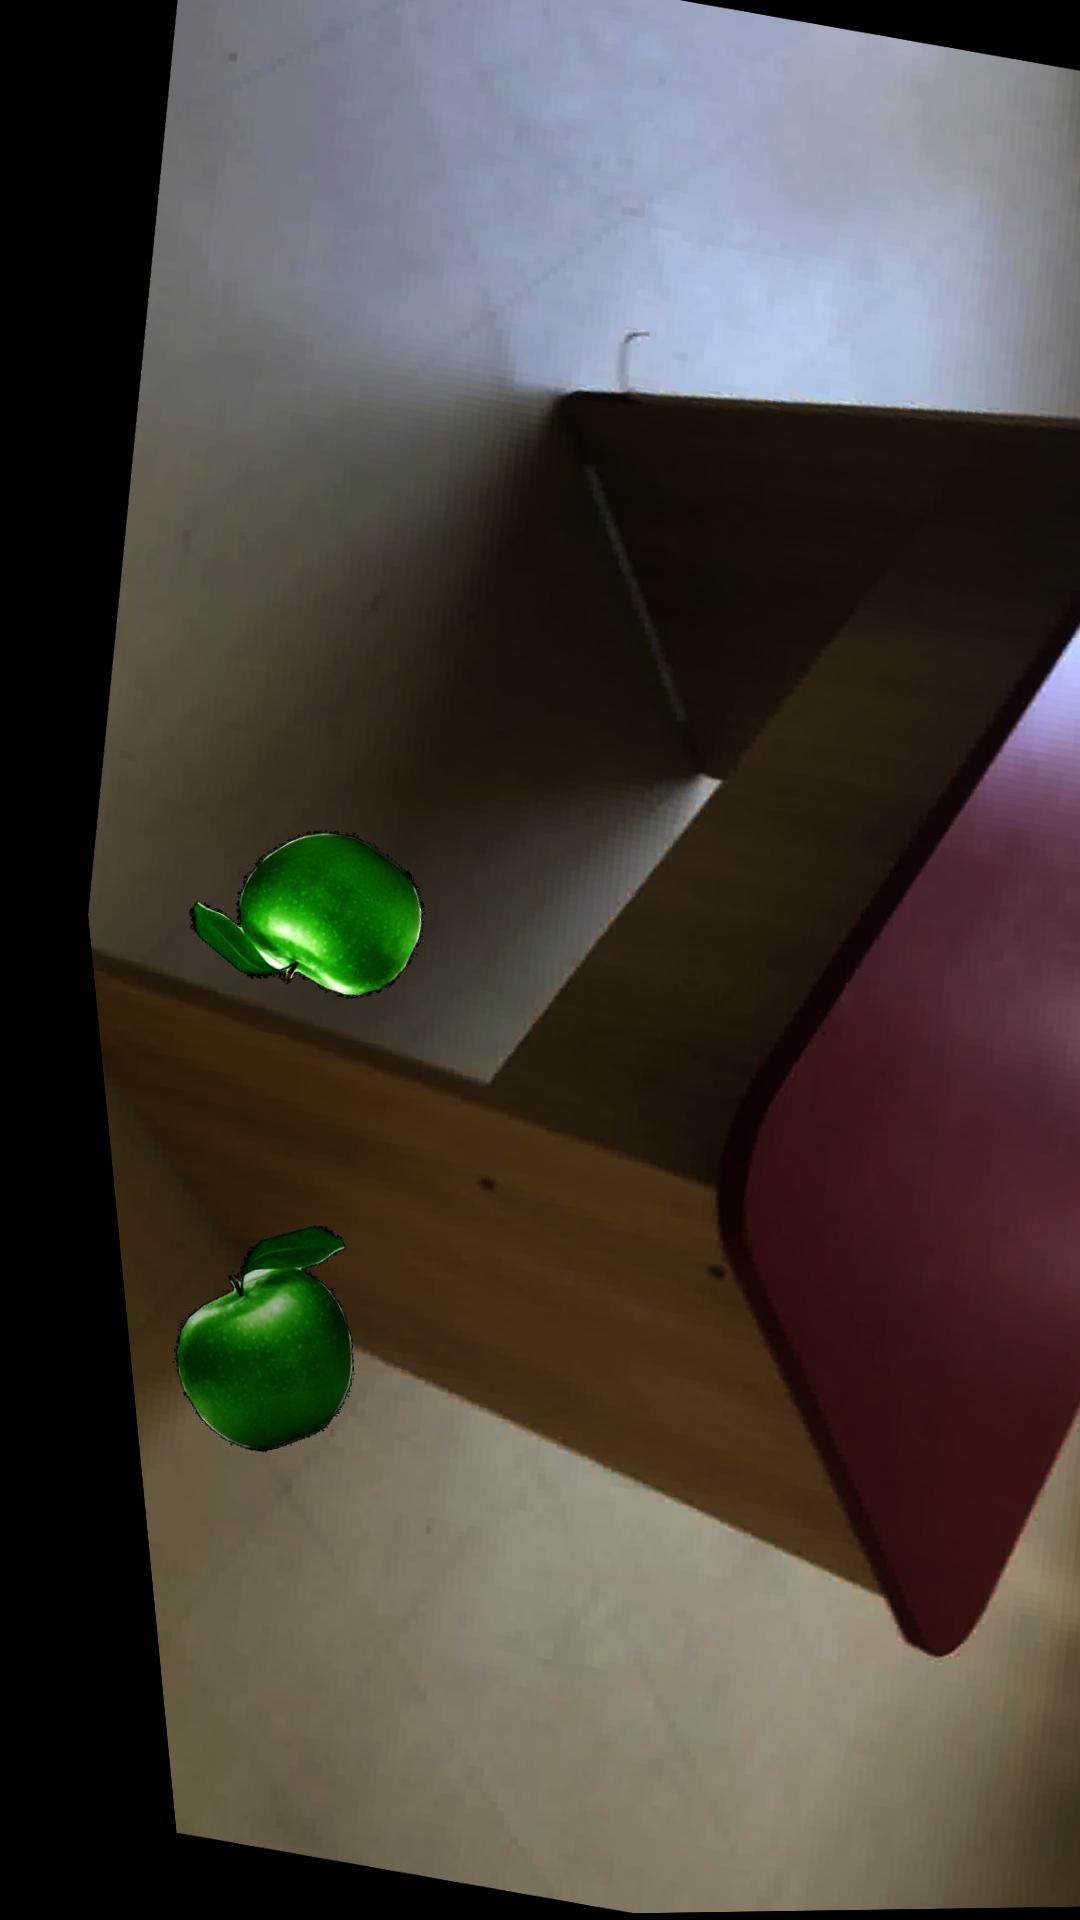green apple: (146, 1224, 323, 1449), (169, 829, 401, 996)
